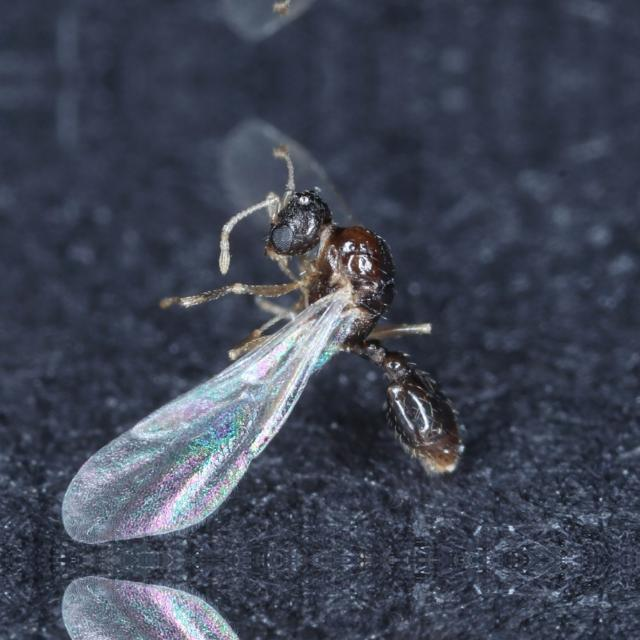Myrmica: (197, 135, 516, 501)
